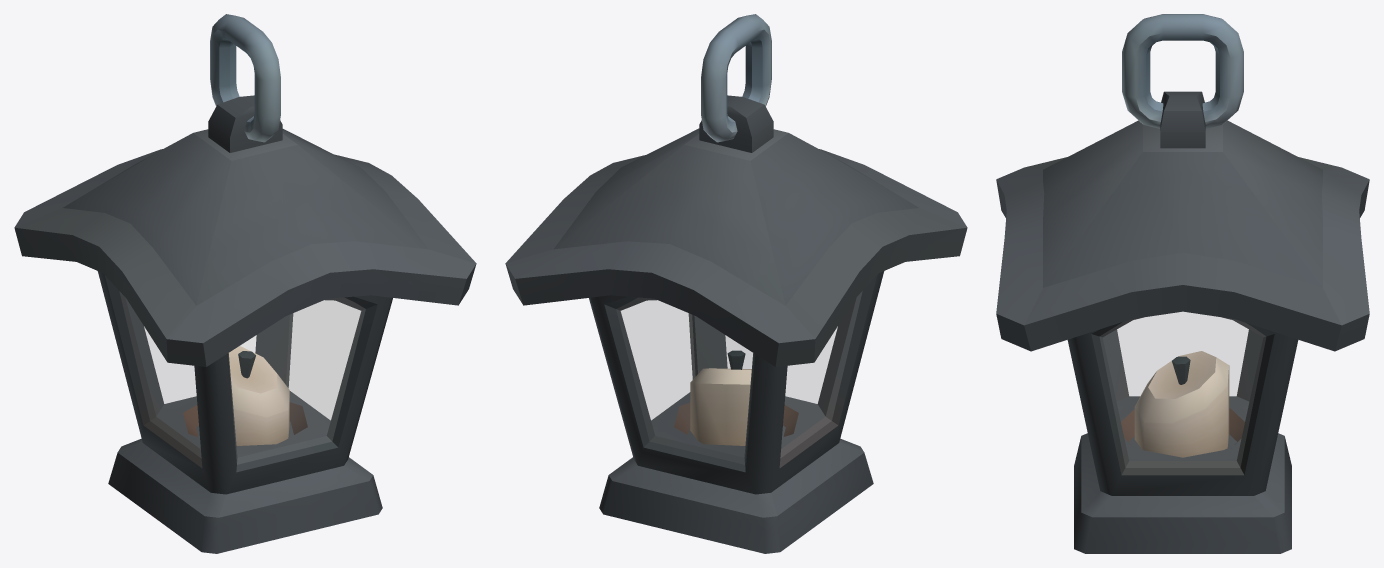
File: lantern_standing.glb
3 renders of one model, left to right at view 1: azimuth 30°, elevation 25°; view 2: azimuth 150°, elevation 25°; view 3: azimuth 270°, elevation 25°, orthographic. The views are drawn at different scales.
Visible parts, largest first — view 1: lantern, lantern_handle; view 2: lantern, lantern_handle; view 3: lantern, lantern_handle.
Boxes of the visible parts, x1,y1,x2,y2 form: lantern: [14, 95, 476, 553]; lantern_handle: [210, 14, 280, 142]; lantern: [505, 95, 967, 553]; lantern_handle: [701, 14, 771, 142]; lantern: [996, 91, 1369, 553]; lantern_handle: [1122, 14, 1243, 128].
Size of the model in its own units: 0.7528 by 1.11 by 0.7528.
2 materials, 1 textured.
